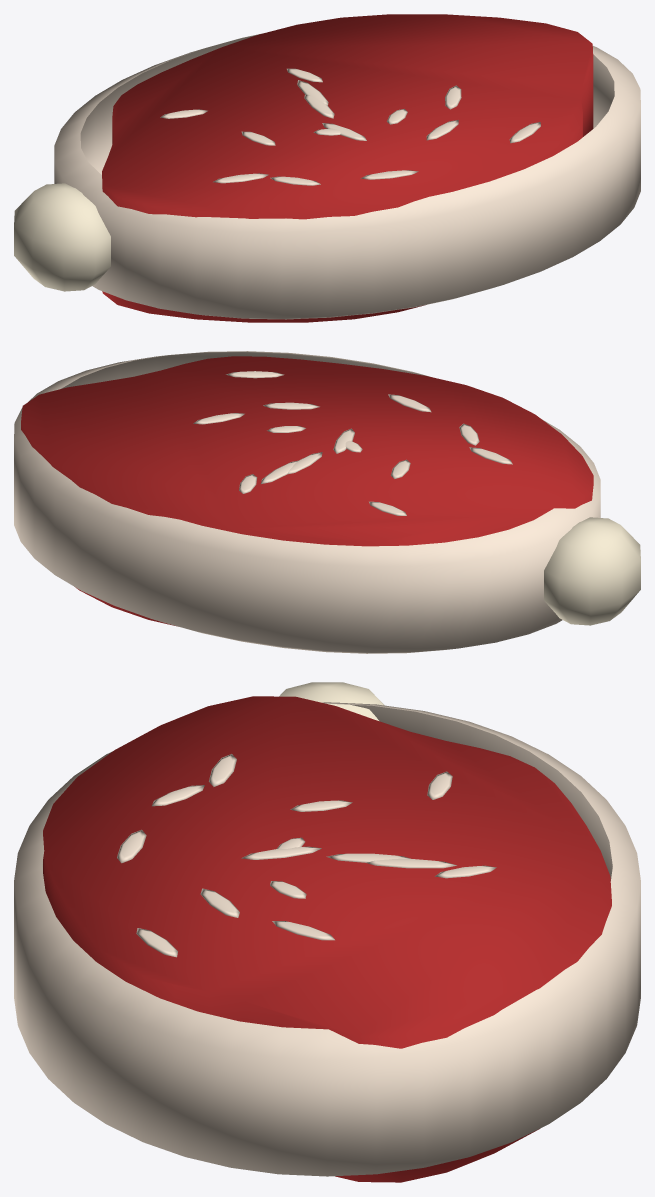
File: kuhfleisch.glb
The picture shows the model from 3 angles, top to bottom: view 1: azimuth 30°, elevation 25°; view 2: azimuth 150°, elevation 25°; view 3: azimuth 270°, elevation 25°; orthographic projection. The views are drawn at different scales.
Visible parts, largest first — view 1: Cylinder, fett, Sphere.014; view 2: Cylinder, fett, Sphere.014; view 3: Cylinder, fett, Sphere.014.
Boxes of the visible parts, left/top/right/bottom form: Cylinder: left=102, top=14, right=593, bottom=322; fett: left=54, top=33, right=640, bottom=319; Sphere.014: left=14, top=183, right=110, bottom=291; Cylinder: left=21, top=356, right=593, bottom=626; fett: left=14, top=351, right=600, bottom=653; Sphere.014: left=544, top=517, right=640, bottom=625; Cylinder: left=43, top=696, right=611, bottom=1182; fett: left=14, top=702, right=640, bottom=1176; Sphere.014: left=279, top=682, right=384, bottom=720.
Bounding box in the file's own units: 0.2316 × 0.0406 × 0.156.
